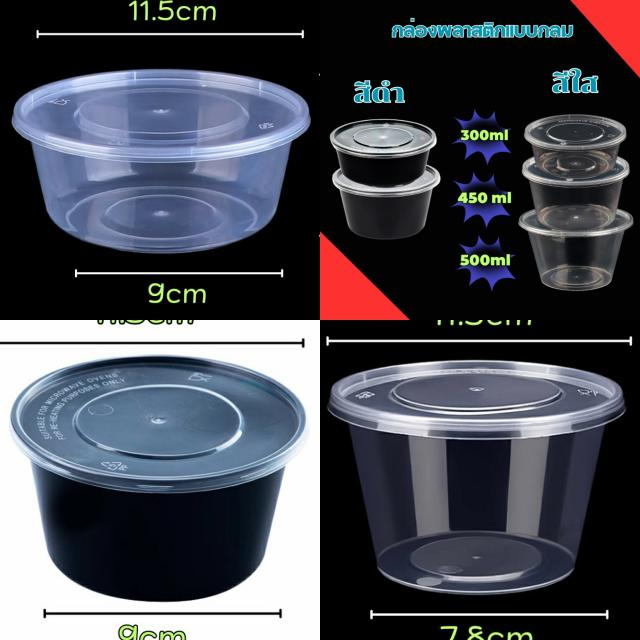Single-Use-Plastic: (11, 356, 308, 601), (329, 360, 625, 595), (12, 69, 310, 252), (519, 210, 632, 291), (332, 165, 440, 239), (522, 158, 629, 229), (331, 119, 436, 186), (525, 115, 626, 178)
